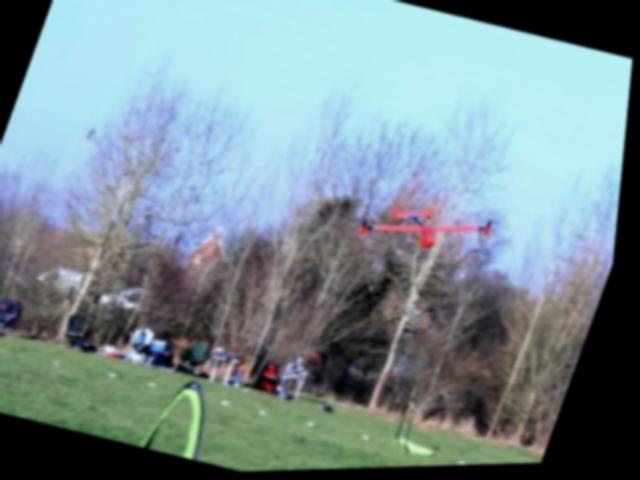uav: (345, 170, 519, 292)
